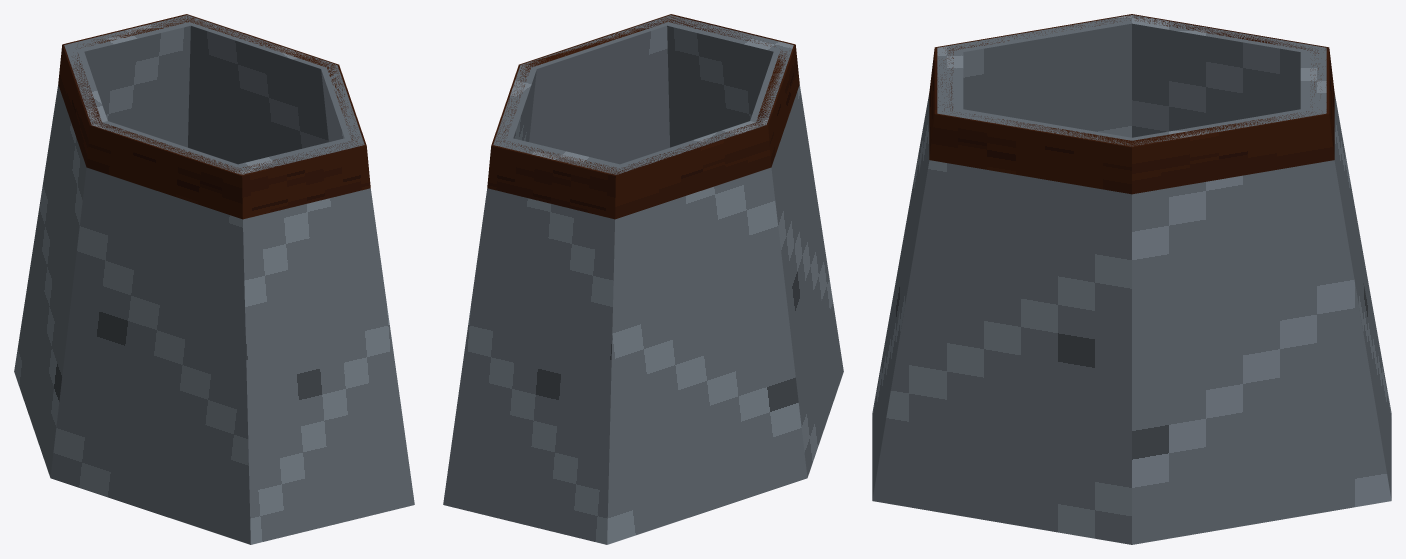
File: malla.glb
The picture shows the model from 3 angles, left to right: view 1: azimuth 30°, elevation 25°; view 2: azimuth 150°, elevation 25°; view 3: azimuth 270°, elevation 25°; orthographic projection. The views are drawn at different scales.
Visible parts, largest first — view 1: faldar, cinturon; view 2: faldar, cinturon; view 3: faldar, cinturon.
Part boxes in pixels (x1,y1,x2,y2): faldar: (14,15,414,544); cinturon: (58,14,370,219); faldar: (443,15,843,544); cinturon: (487,14,799,219); faldar: (872,15,1391,544); cinturon: (929,14,1334,194).
Bounding box in the file's own units: 0.4 × 0.4 × 0.5.
1 material, 1 textured.
